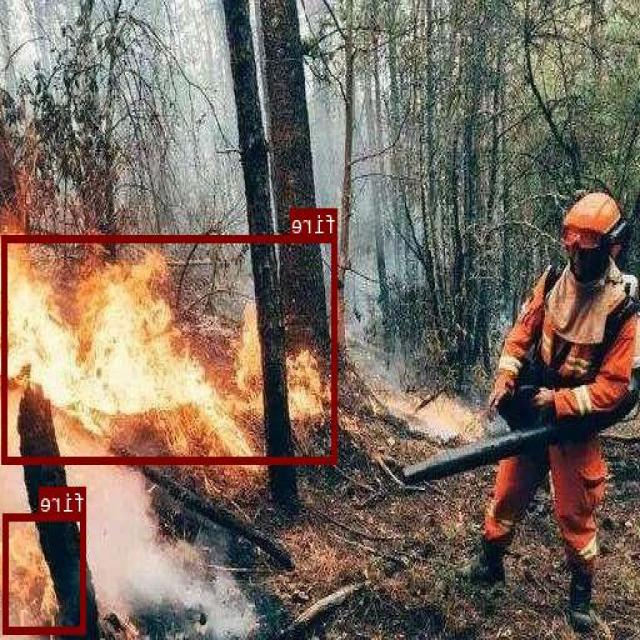fire: (4, 235, 338, 463), (4, 512, 87, 632)
